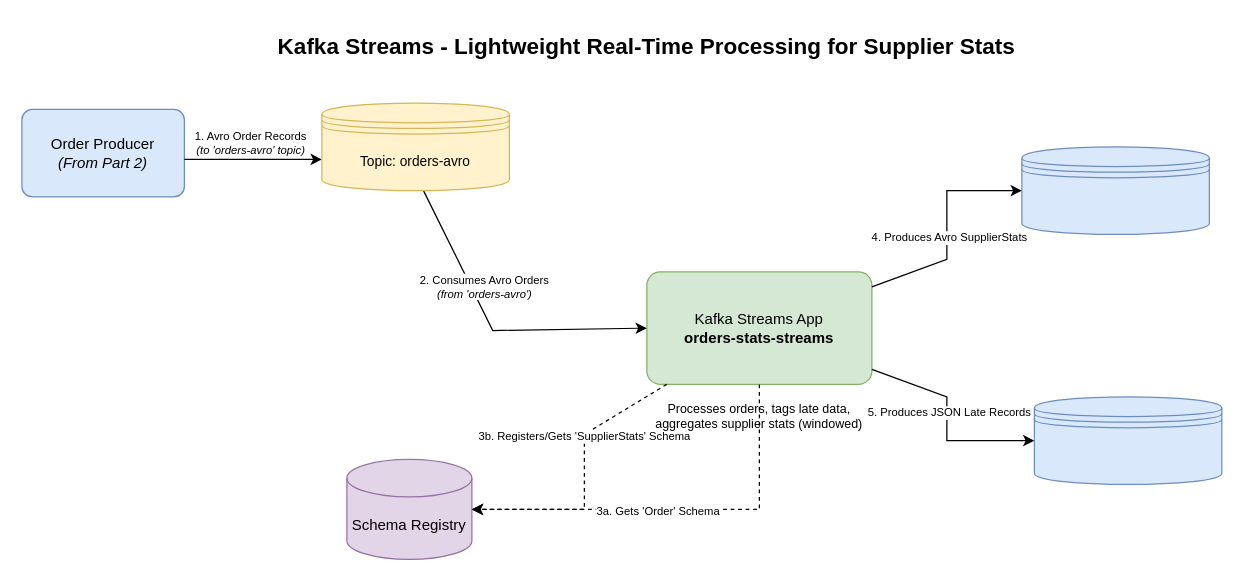
This 1244x581 diagram has some shape labels left out. Here are the shapes that lost their labels. From the top down, the box of each, then its label:
(1021, 146, 1209, 234): Topic: orders-avro-stats
(1033, 396, 1222, 484): Topic: orders-avro-skipped
